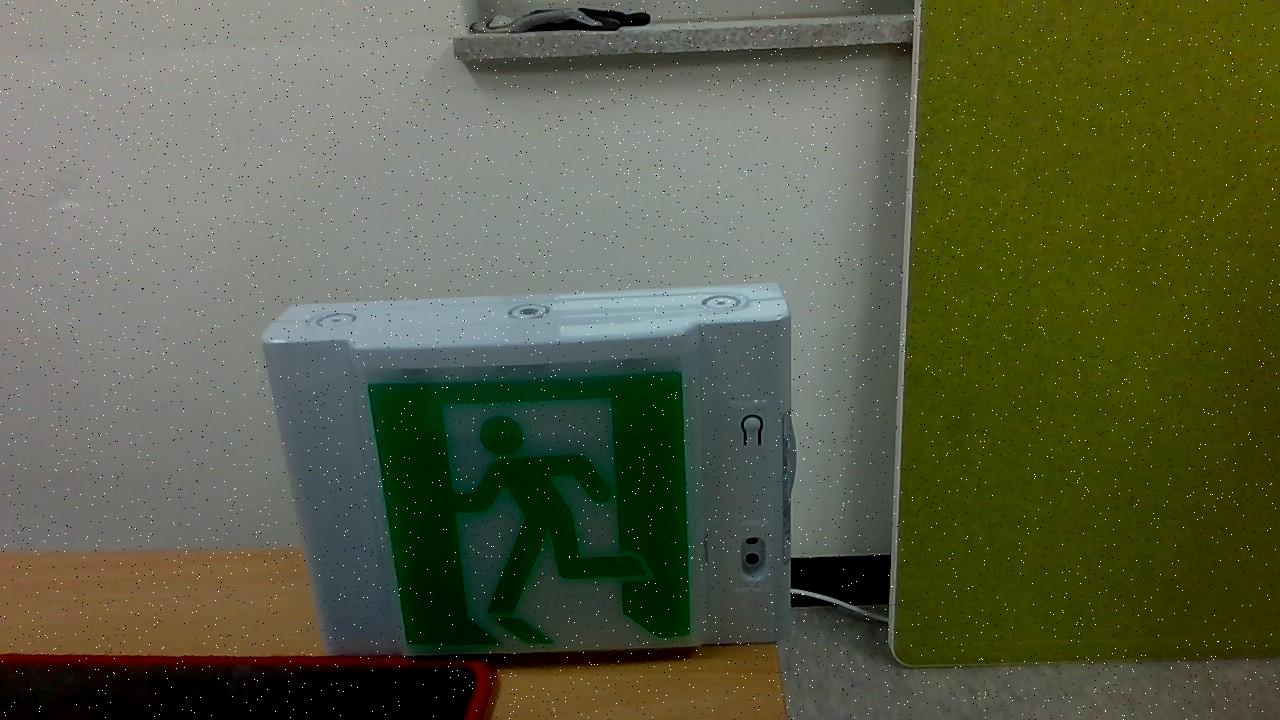emergency_exit: (262, 283, 795, 662), (366, 369, 694, 656)
